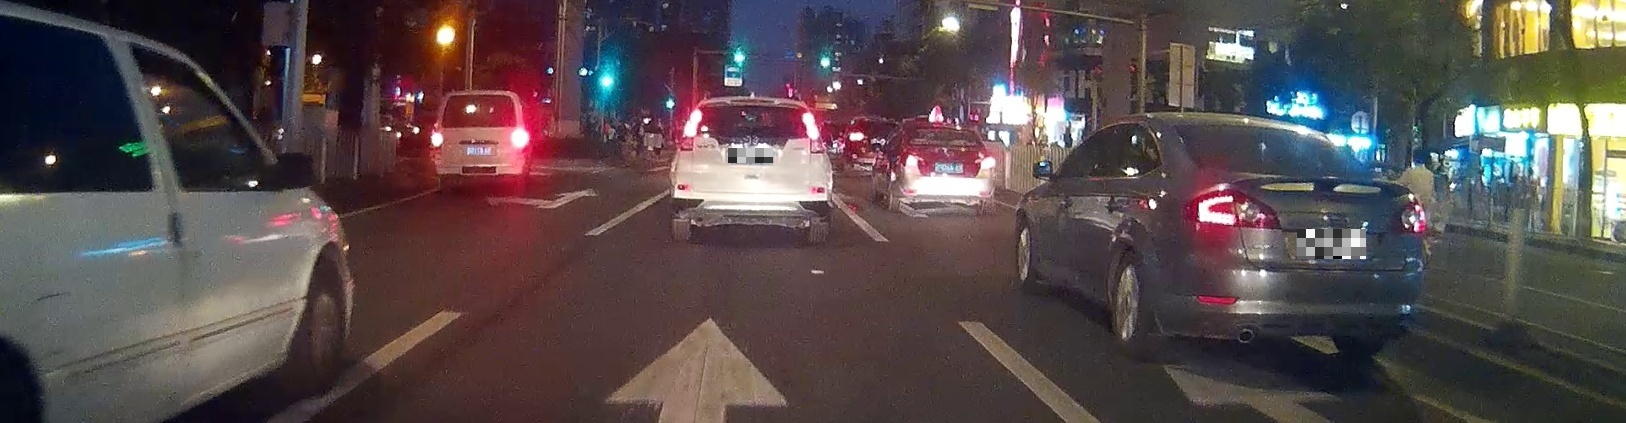L_light: (1180, 184, 1282, 231), (679, 109, 703, 151), (901, 152, 926, 168), (430, 126, 443, 156)
R_light: (1383, 197, 1428, 235), (800, 111, 828, 154), (514, 126, 527, 156), (977, 156, 996, 169)
T_light: (1245, 128, 1294, 138), (731, 98, 775, 104), (468, 94, 487, 98), (937, 128, 956, 132)
night-no: (1167, 112, 1429, 358), (670, 96, 833, 244), (900, 121, 996, 216)
night-right: (430, 91, 530, 197)
plate_1: (728, 148, 773, 163)
plate_2: (1297, 229, 1366, 259)
